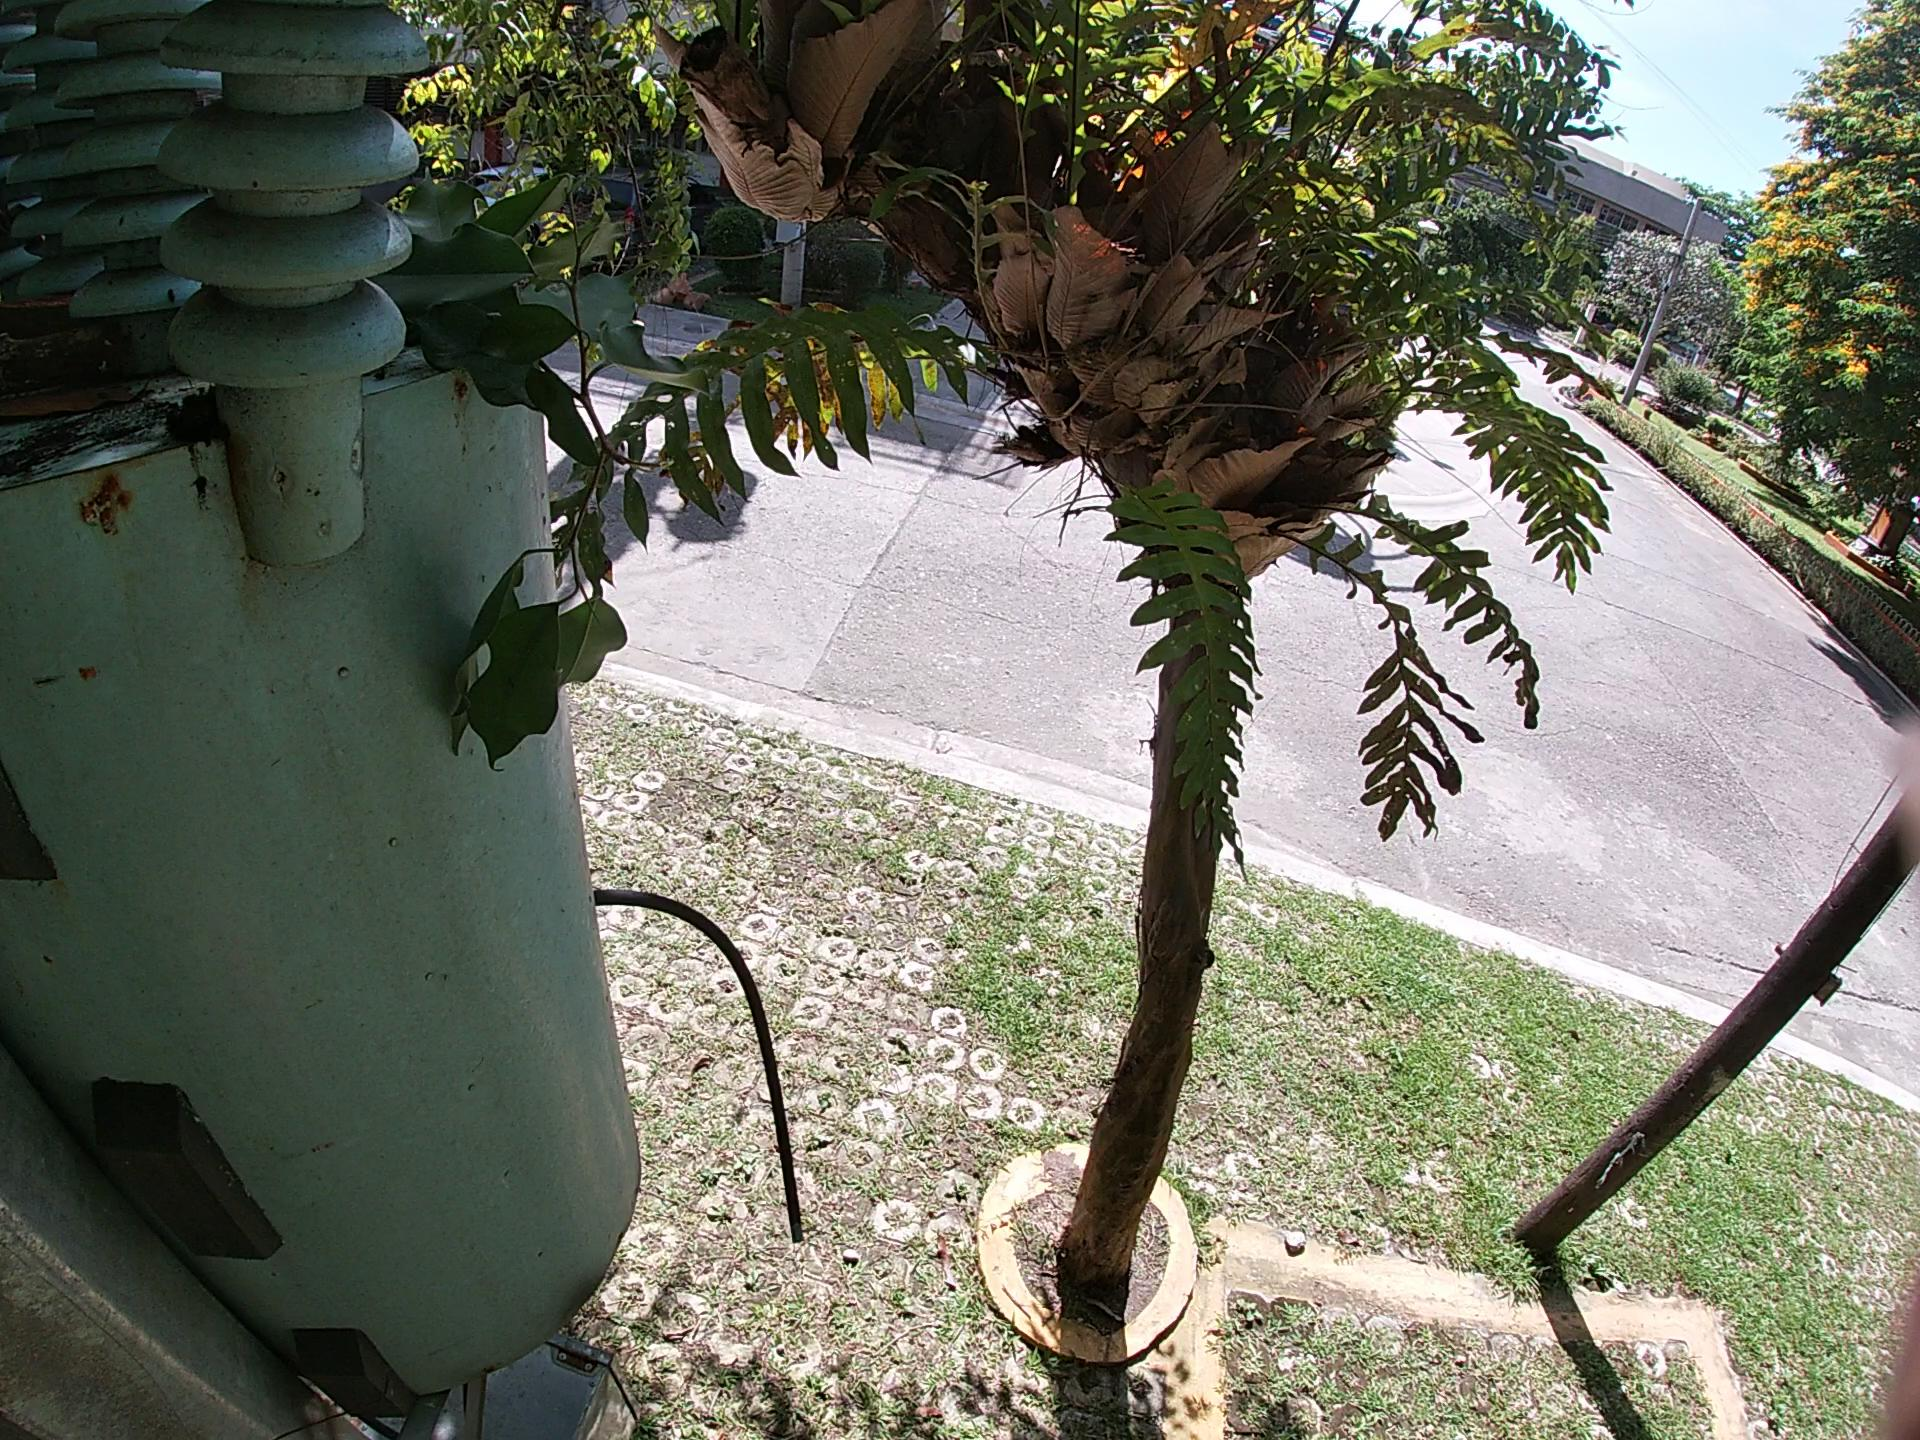branch with leaves: (376, 141, 652, 787)
leaf: (3, 384, 163, 424)
mahogany fruit: (6, 278, 106, 321)
tree branch: (3, 327, 77, 355)
